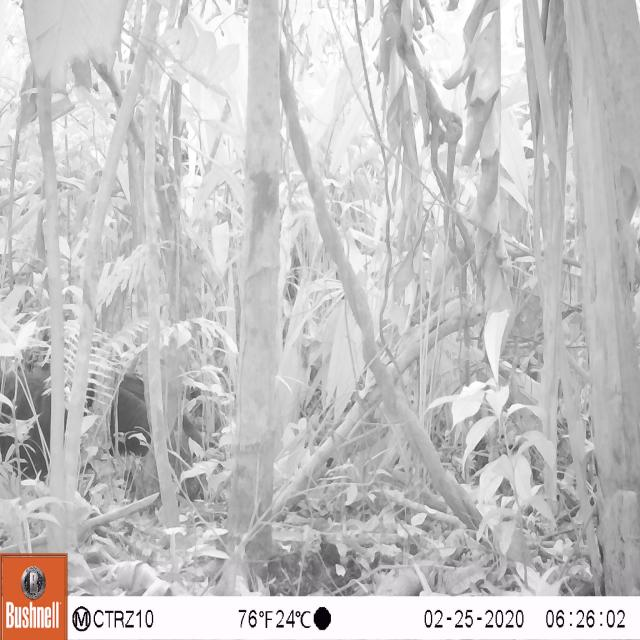Giant Anteater: (0, 349, 217, 502)
